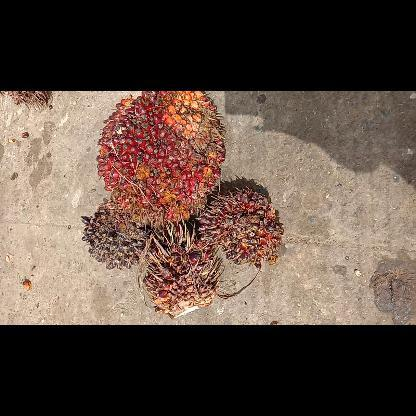TBS abnormal: (142, 224, 223, 320), (195, 185, 285, 268), (77, 198, 151, 272)
TBS masak: (95, 91, 227, 229)
